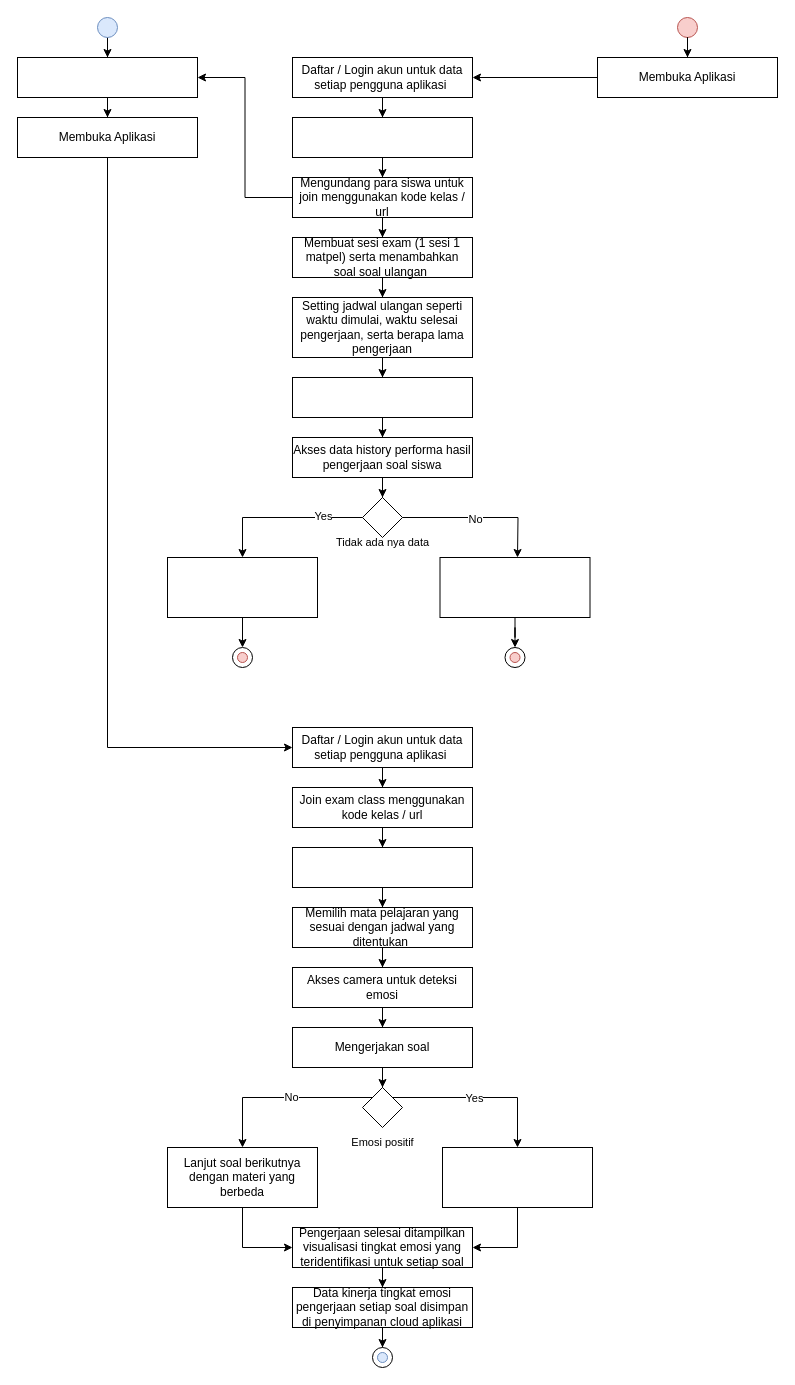
Image size: 795x1385. Some labels were removed from this diagram. Each missing label, with the centre of its shape:
Data empty, masih belum ada siswa yang pernah mengerjakan Soal: pixel 242 587
Lanjut soal berikutnya dengan materi yang sama: pixel 517 1177
Membaca peraturan pengerjaan soal: pixel 382 867
Membuat exam class (sebagai admin exam class): pixel 382 137
Membuat peraturan pengerjaan untuk siswa: pixel 382 397
Menampilkan, merekap, serta menyimpan ke penyimpanan local jika dibutuhkan: pixel 514 587
Mendapatkan kode kelas / url undangan: pixel 107 77
